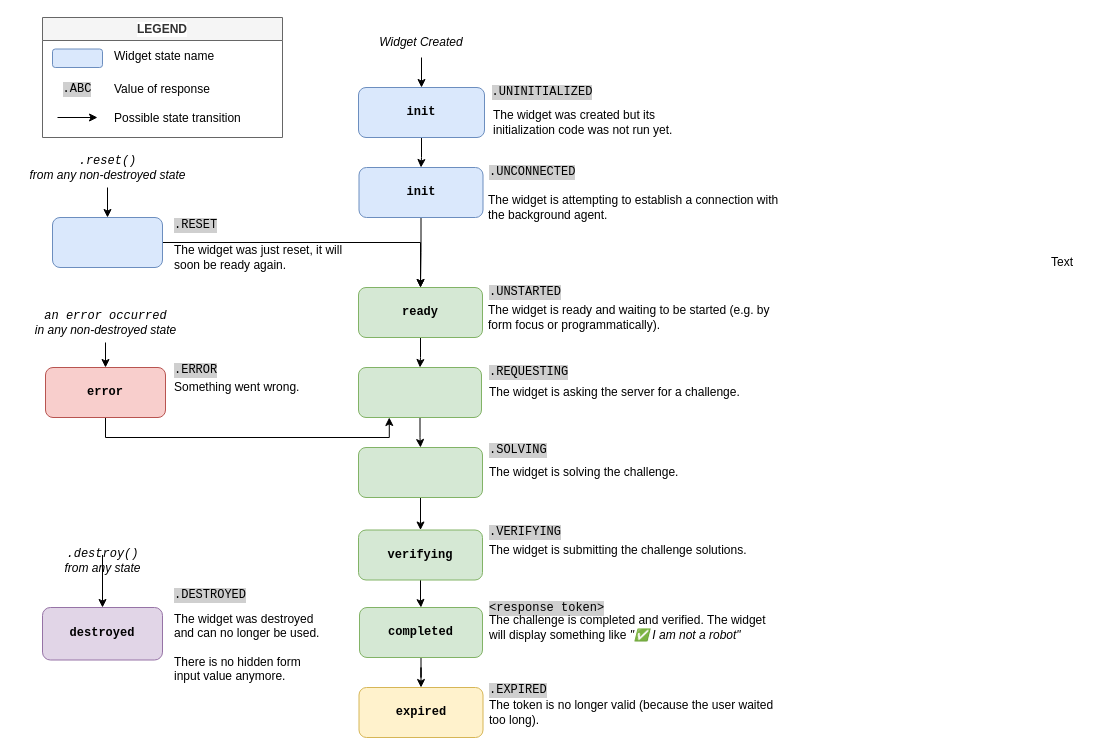
Image size: 1109x755. Some labels were removed from this diagram. Each missing label, with the centre of its shape:
"abc" goes at (x=77, y=58).
"requesting" goes at (x=420, y=392).
"reset" goes at (x=107, y=242).
"solving" goes at (x=420, y=472).
